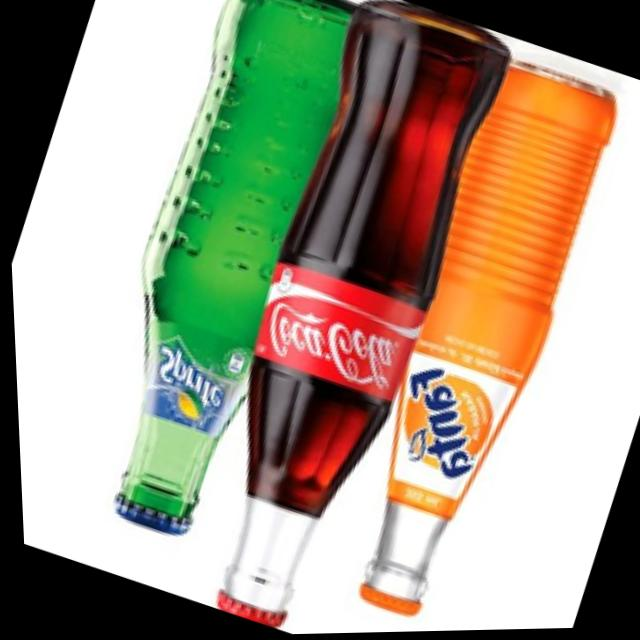glass_beverage_bottles: (150, 0, 526, 637), (49, 0, 382, 549), (313, 68, 631, 635)
